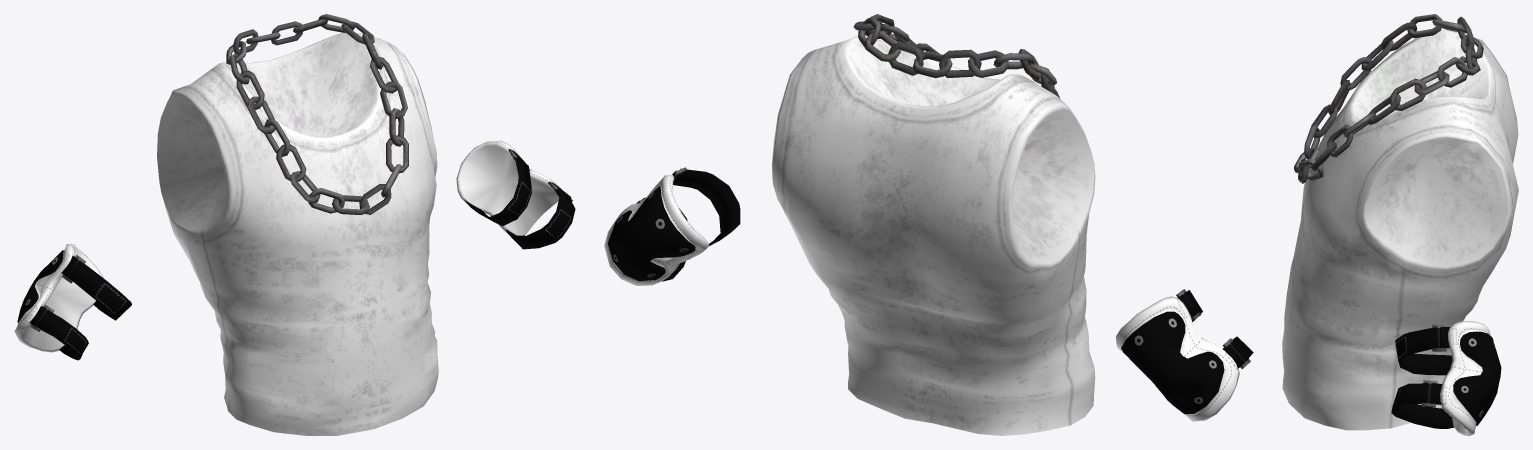
The model's file is SurvivorMale_Chest_Shirt_Viking_LOD0.glb.
The picture shows the model from 3 angles, left to right: view 1: azimuth 30°, elevation 25°; view 2: azimuth 150°, elevation 25°; view 3: azimuth 270°, elevation 25°; orthographic projection. The views are drawn at different scales.
Visible parts, largest first — view 1: Hoodie; view 2: Hoodie; view 3: Hoodie.
Boxes of the visible parts, left/top/right/bottom form: Hoodie: left=14, top=14, right=575, bottom=435; Hoodie: left=604, top=14, right=1253, bottom=435; Hoodie: left=1282, top=14, right=1518, bottom=435.
Size of the model in its own units: 0.8843 by 0.5363 by 0.3287.
1 material, 1 textured.
